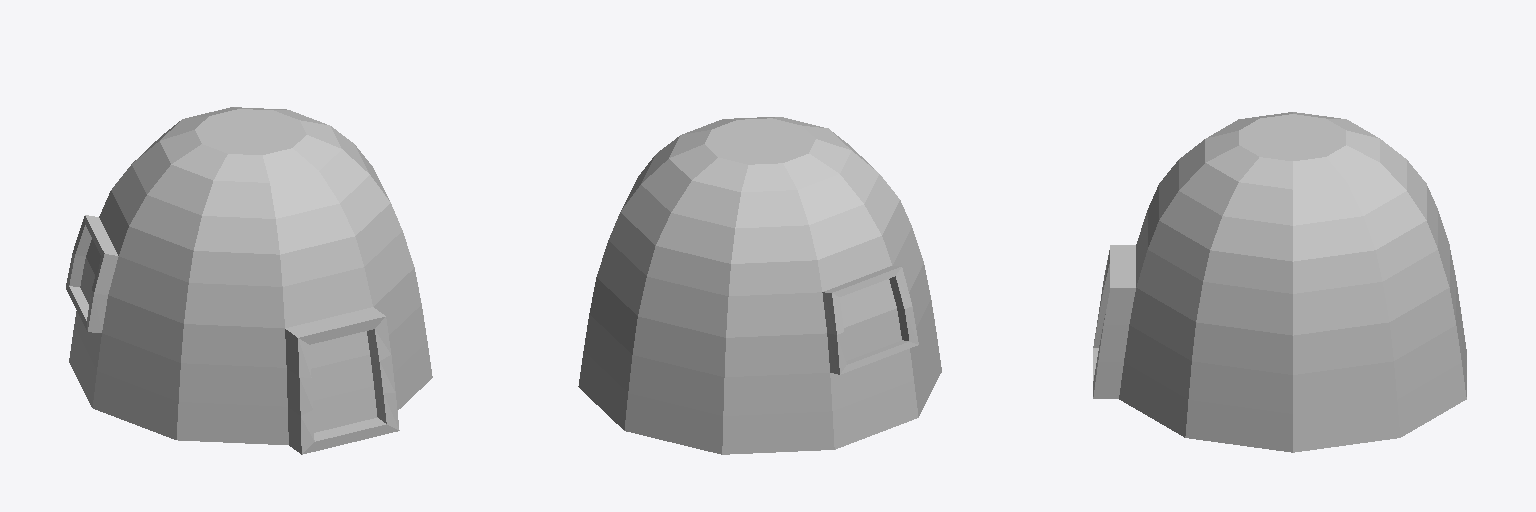
File: mHouse.obj
The picture shows the model from 3 angles: view 1: azimuth 30°, elevation 25°; view 2: azimuth 150°, elevation 25°; view 3: azimuth 270°, elevation 25°; orthographic projection.
Parts seen in each view (by area): view 1: mHouse; view 2: mHouse; view 3: mHouse.
Boxes of the visible parts, x1=… form: mHouse: x1=66, y1=107, x2=432, y2=454; mHouse: x1=578, y1=117, x2=941, y2=454; mHouse: x1=1093, y1=112, x2=1466, y2=452.
Bounding box in the file's own units: 6.51 × 4.63 × 6.59.